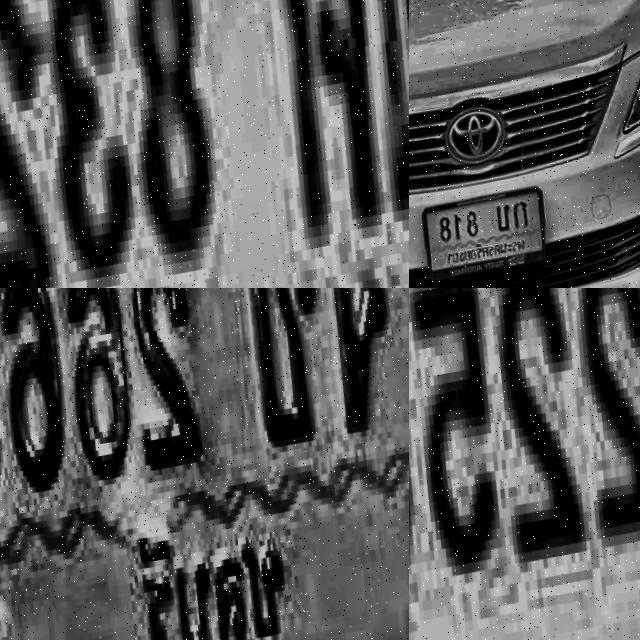license-plate: (0, 288, 409, 640), (0, 0, 409, 288), (409, 288, 640, 640), (423, 182, 564, 286)
